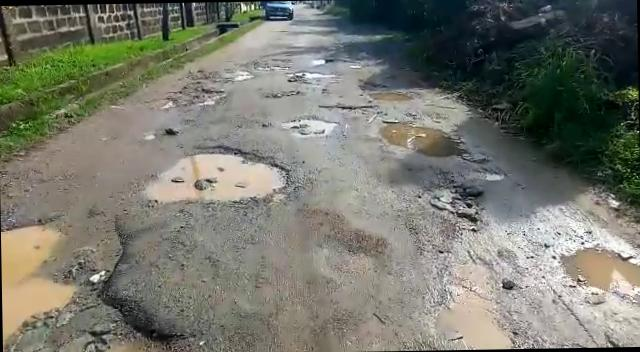pothole: (1, 214, 150, 352), (153, 141, 296, 207), (556, 244, 640, 299), (378, 119, 472, 160), (416, 182, 484, 232), (144, 84, 226, 112), (282, 116, 335, 138), (366, 90, 418, 104), (322, 102, 382, 112), (260, 88, 308, 99)
